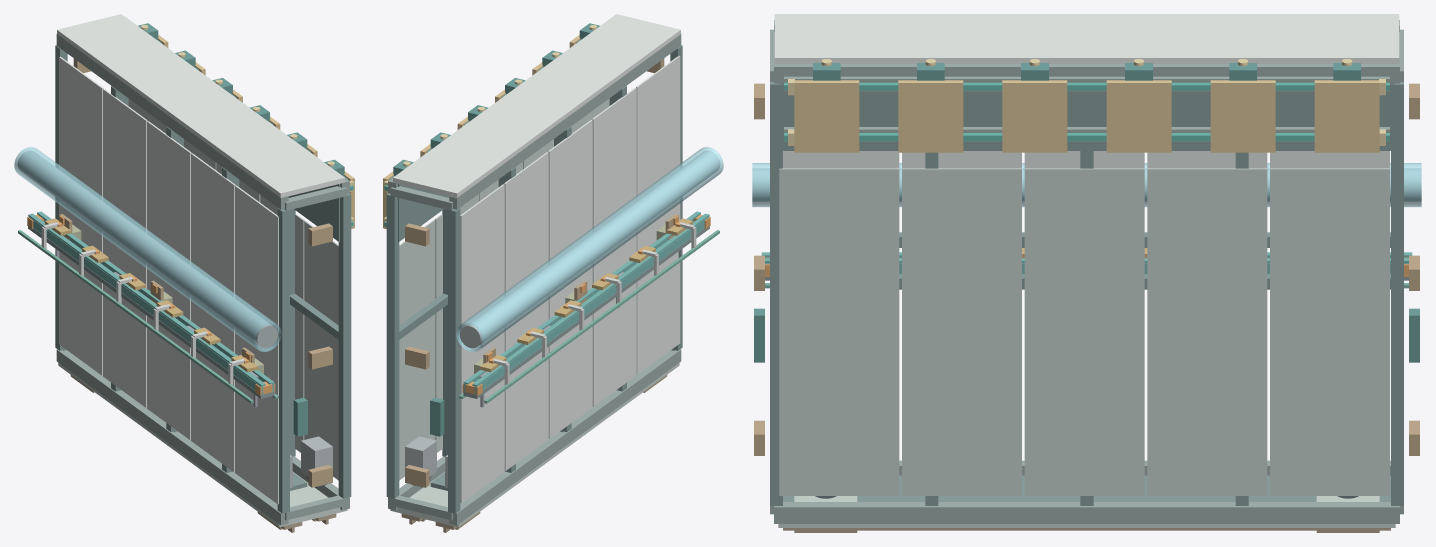
File: 06_storage_TARGET_ONLY.glb
3 views of the same model, side by side, from view 1: azimuth 30°, elevation 25°; view 2: azimuth 150°, elevation 25°; view 3: azimuth 270°, elevation 25° (orthographic). The views are drawn at different scales.
Visible parts, largest first — view 1: M1_W01_P_wall_top_coping, M1_W01_P_outer_back_1, M1_W01_P_outer_back_4, M1_W01_P_outer_back_2, F04_CONTINUOUS_SINGLE_SHEET, M1_W01_P_outer_back_3, M1_W01_P_outer_back_5, F04_storage_core, M1_W01_P_front_lower_1, M1_W01_F_long_0_0, M1_W01_F_post_1_0, M1_W01_F_post_0_0 (+20 smaller); view 2: M1_W01_P_wall_top_coping, M1_W01_P_outer_back_5, M1_W01_P_outer_back_2, M1_W01_P_outer_back_4, M1_W01_P_outer_back_3, M1_W01_P_outer_back_1, F04_CONTINUOUS_SINGLE_SHEET, F04_storage_core, M1_W01_P_front_lower_5, M1_W01_F_long_0_0, M1_W01_F_post_1_4, M1_W01_F_post_0_4 (+20 smaller); view 3: M1_W01_P_front_lower_1, M1_W01_P_front_lower_3, M1_W01_P_front_lower_4, M1_W01_P_front_lower_2, M1_W01_P_front_lower_5, M1_W01_P_wall_top_coping, M1_W01_F_long_1_0, M1_W01_F_root_backing_plate, M1_W01_F_long_1_1, M1_W01_F_post_1_4, M1_W01_C01_carrier_body, M1_W01_C02_carrier_body (+20 smaller).
Boxes of the visible parts, x1=… form: M1_W01_P_wall_top_coping: x1=57, y1=14, x2=344, y2=197; M1_W01_P_outer_back_1: x1=235, y1=185, x2=278, y2=504; M1_W01_P_outer_back_4: x1=103, y1=89, x2=147, y2=407; M1_W01_P_outer_back_2: x1=191, y1=153, x2=235, y2=472; F04_CONTINUOUS_SINGLE_SHEET: x1=14, y1=147, x2=281, y2=351; M1_W01_P_outer_back_3: x1=147, y1=121, x2=191, y2=439; M1_W01_P_outer_back_5: x1=59, y1=56, x2=103, y2=375; F04_storage_core: x1=18, y1=151, x2=277, y2=348; M1_W01_P_front_lower_1: x1=304, y1=221, x2=338, y2=480; M1_W01_F_long_0_0: x1=56, y1=349, x2=288, y2=525; M1_W01_F_post_1_0: x1=338, y1=193, x2=351, y2=498; M1_W01_F_post_0_0: x1=277, y1=208, x2=289, y2=513; M1_W01_P_wall_top_coping: x1=393, y1=14, x2=680, y2=197; M1_W01_P_outer_back_5: x1=460, y1=184, x2=504, y2=503; M1_W01_P_outer_back_2: x1=592, y1=88, x2=636, y2=406; M1_W01_P_outer_back_4: x1=504, y1=152, x2=548, y2=470; M1_W01_P_outer_back_3: x1=548, y1=120, x2=592, y2=438; M1_W01_P_outer_back_1: x1=636, y1=55, x2=680, y2=374; F04_CONTINUOUS_SINGLE_SHEET: x1=456, y1=147, x2=723, y2=351; F04_storage_core: x1=460, y1=151, x2=719, y2=348; M1_W01_P_front_lower_5: x1=399, y1=220, x2=435, y2=480; M1_W01_F_long_0_0: x1=449, y1=349, x2=681, y2=525; M1_W01_F_post_1_4: x1=386, y1=193, x2=399, y2=498; M1_W01_F_post_0_4: x1=448, y1=208, x2=460, y2=513; M1_W01_P_front_lower_1: x1=779, y1=168, x2=899, y2=495; M1_W01_P_front_lower_3: x1=1024, y1=168, x2=1144, y2=495; M1_W01_P_front_lower_4: x1=1147, y1=168, x2=1267, y2=495; M1_W01_P_front_lower_2: x1=902, y1=168, x2=1021, y2=495; M1_W01_P_front_lower_5: x1=1270, y1=168, x2=1389, y2=495; M1_W01_P_wall_top_coping: x1=774, y1=14, x2=1399, y2=63; M1_W01_F_long_1_0: x1=774, y1=502, x2=1399, y2=523; M1_W01_F_root_backing_plate: x1=779, y1=83, x2=1394, y2=150; M1_W01_F_long_1_1: x1=774, y1=61, x2=1399, y2=83; M1_W01_F_post_1_4: x1=1391, y1=82, x2=1403, y2=505; M1_W01_C01_carrier_body: x1=794, y1=80, x2=859, y2=152; M1_W01_C02_carrier_body: x1=898, y1=80, x2=963, y2=152.
Bounding box in the file's own units: 1.01 × 2.86 × 3.6.
